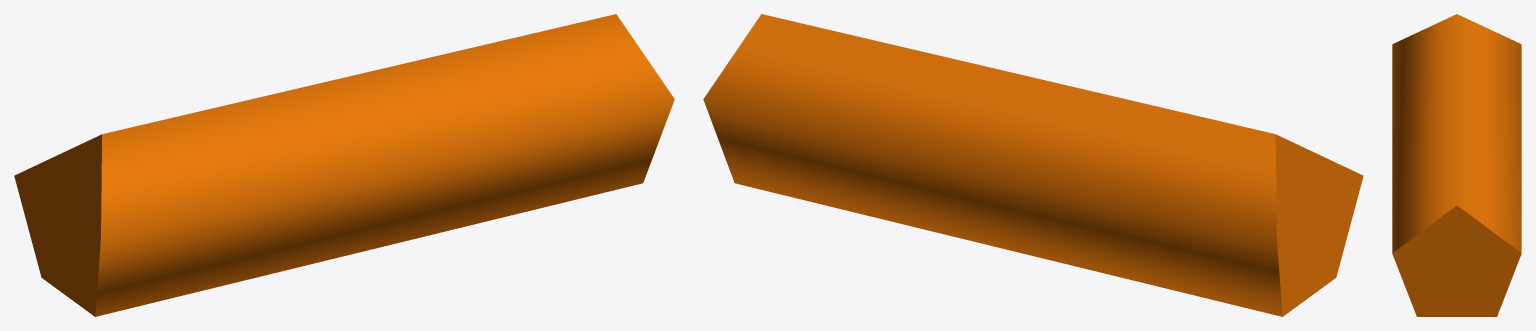
Rendered from Crayon_F.FBX.
The picture shows the model from 3 angles, left to right: view 1: azimuth 30°, elevation 25°; view 2: azimuth 150°, elevation 25°; view 3: azimuth 270°, elevation 25°; orthographic projection. The views are drawn at different scales.
Visible parts, largest first — view 1: Crayon_And_Chalk; view 2: Crayon_And_Chalk; view 3: Crayon_And_Chalk.
Part boxes in pixels (x1,y1,x2,y2): Crayon_And_Chalk: (14,14,674,316); Crayon_And_Chalk: (703,14,1363,316); Crayon_And_Chalk: (1392,14,1521,316).
Size of the model in its own units: 29.04 by 7.49 by 7.61.
